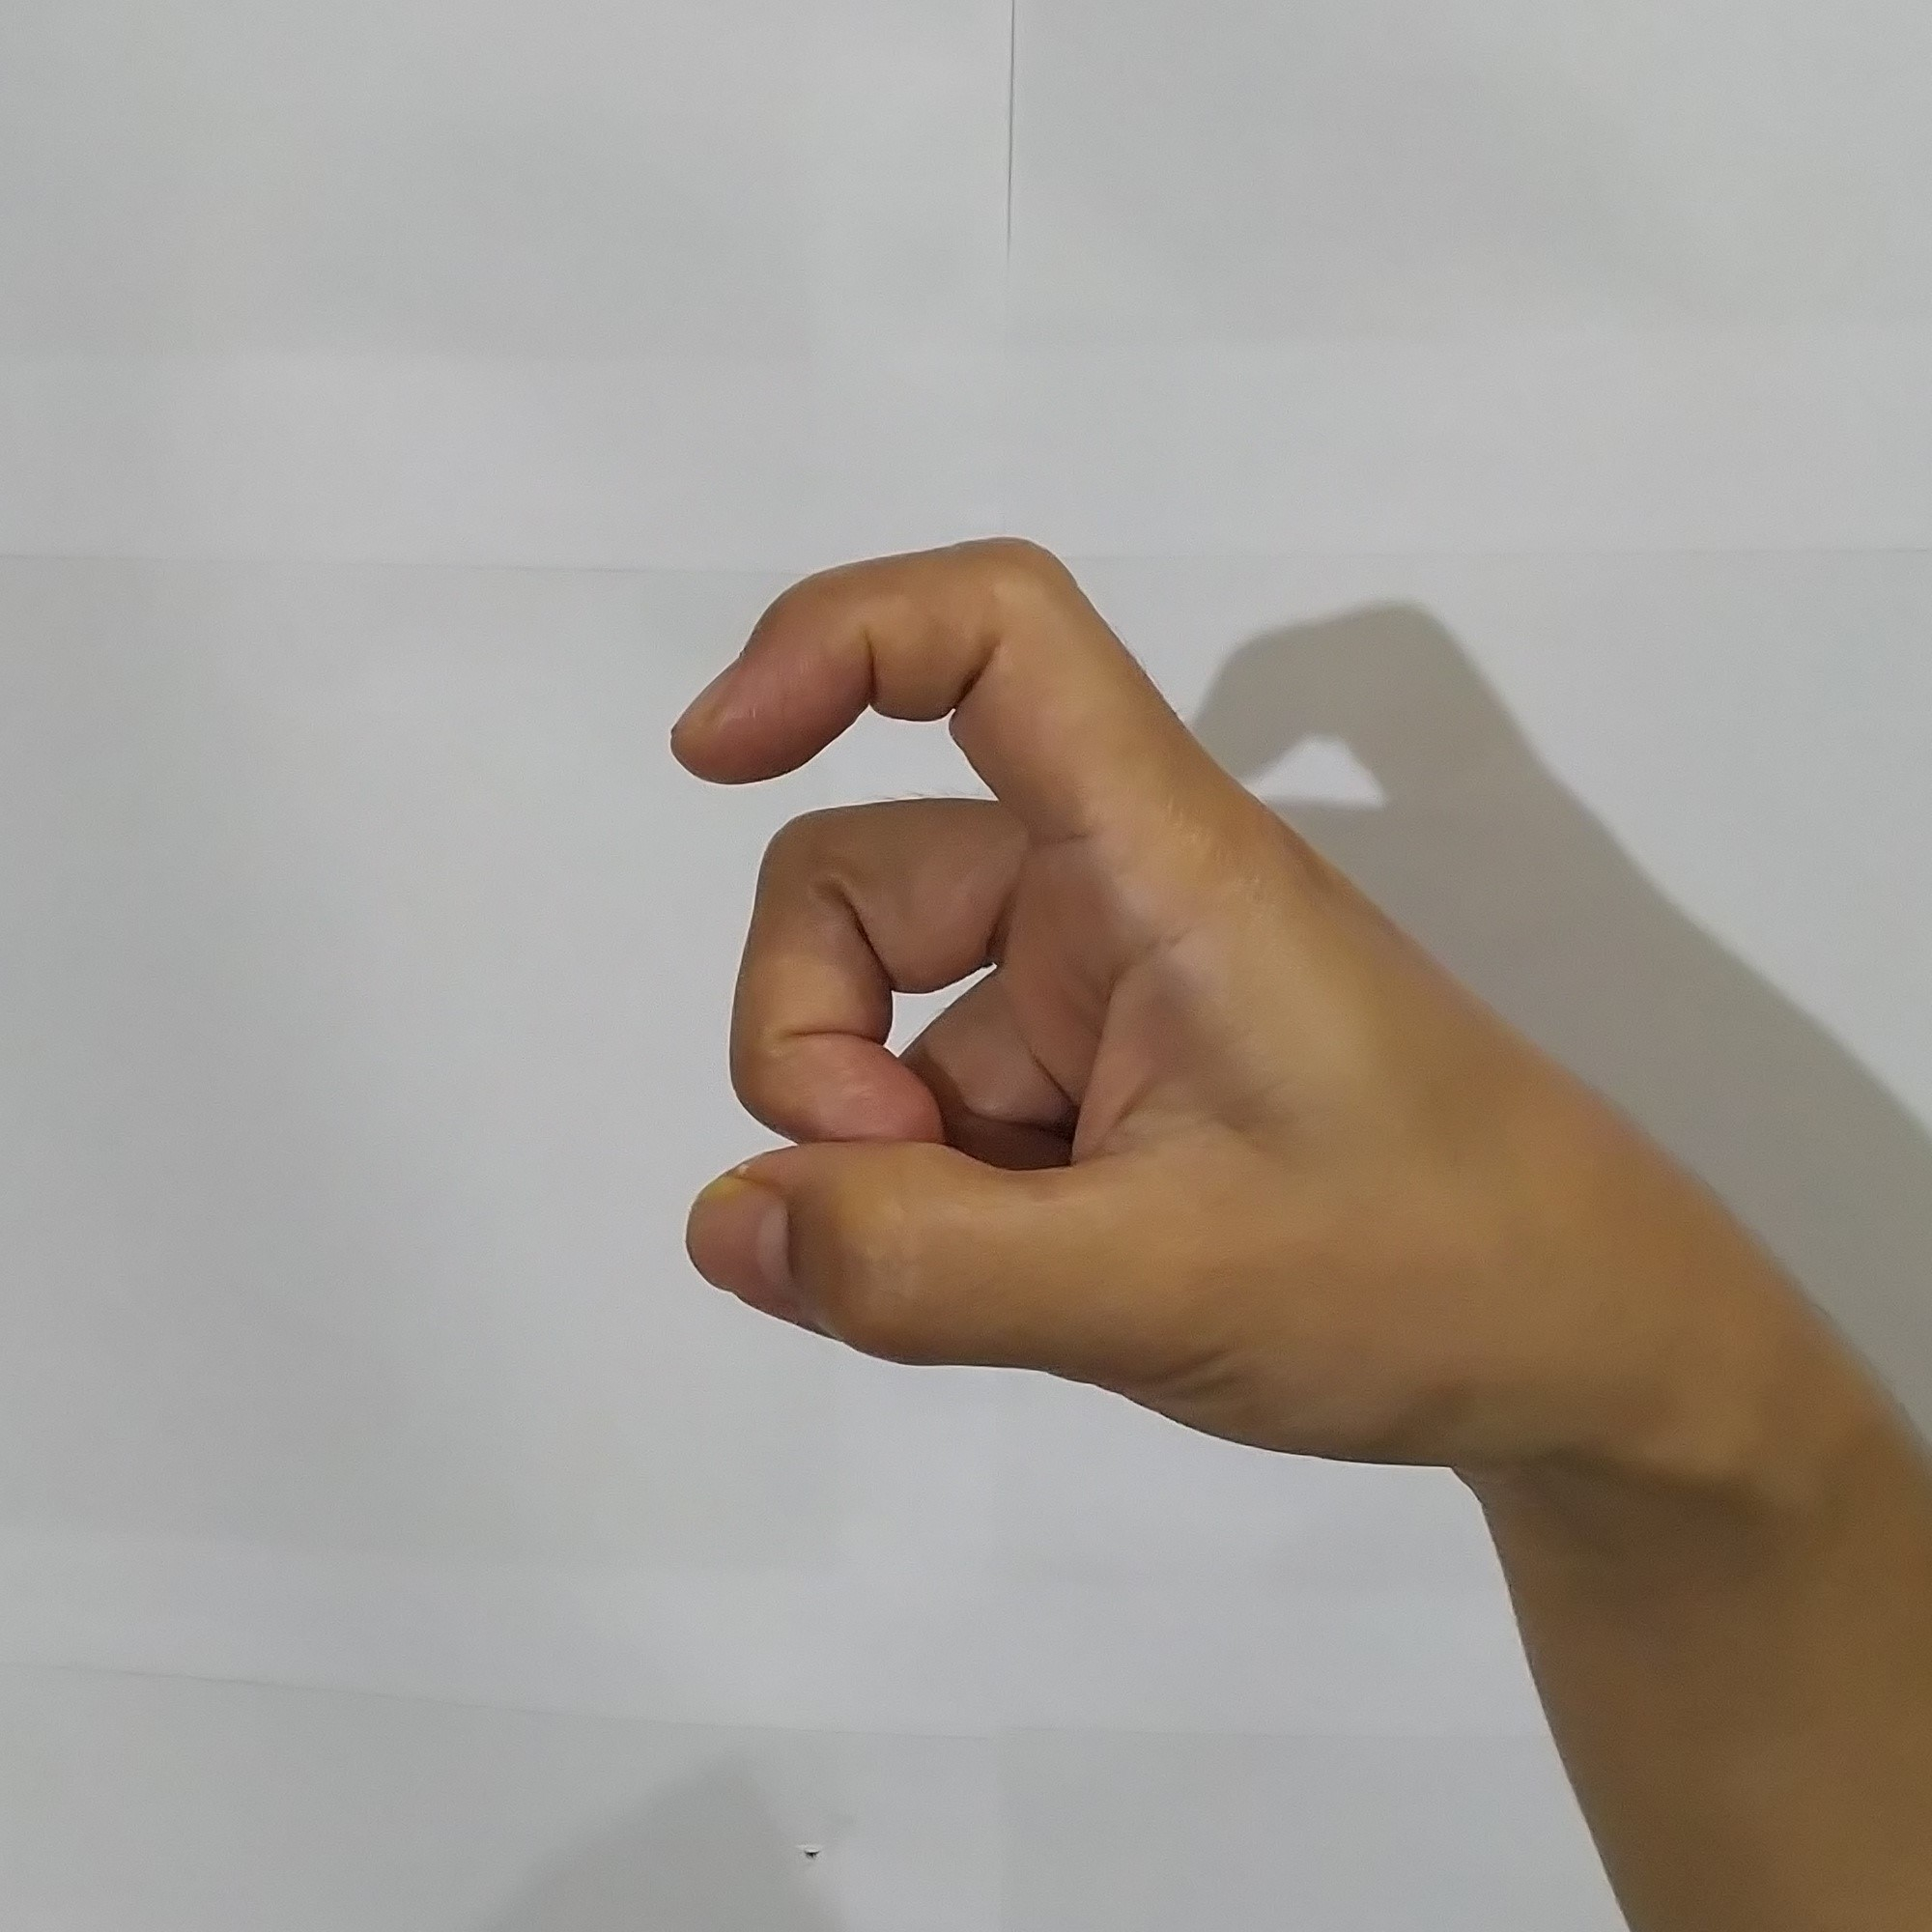X: (626, 506, 1725, 1467)
